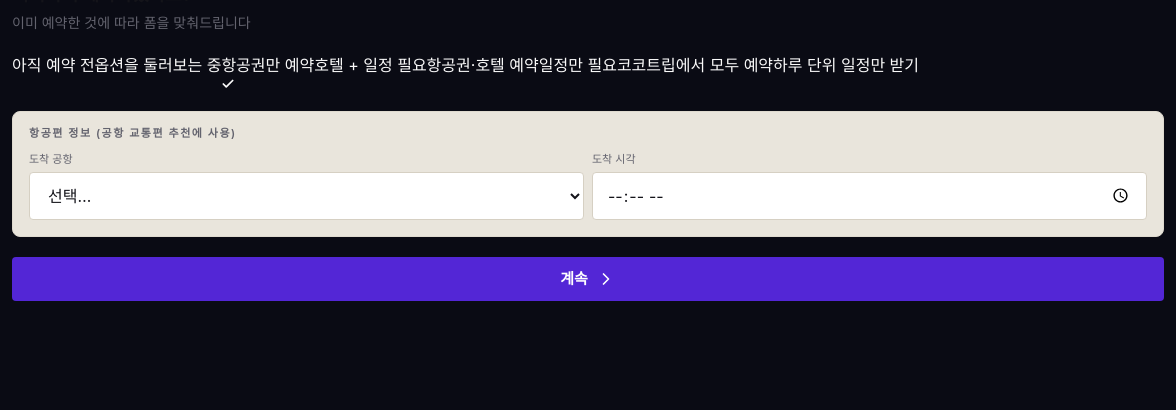
예약 상황 스텝 — 회색 버튼 대신 이유를 말한다 › 항공편만 고르고 시각을 비우면 — 도착 시각을 콕 집어 말한다
Click the button "계속".
click(588, 278)  # box [12,256,1164,300]
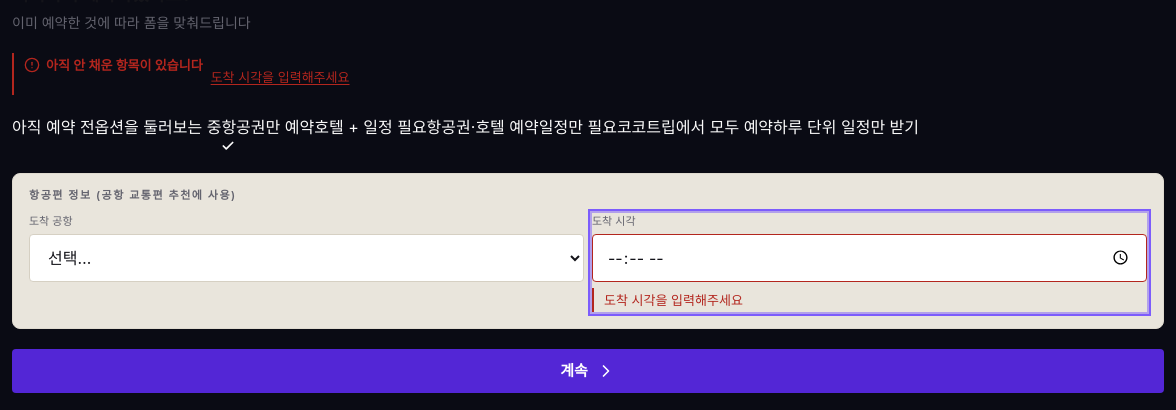
Result: the button "도착 시각을 입력해주세요" is shown at [211,61,350,93]
